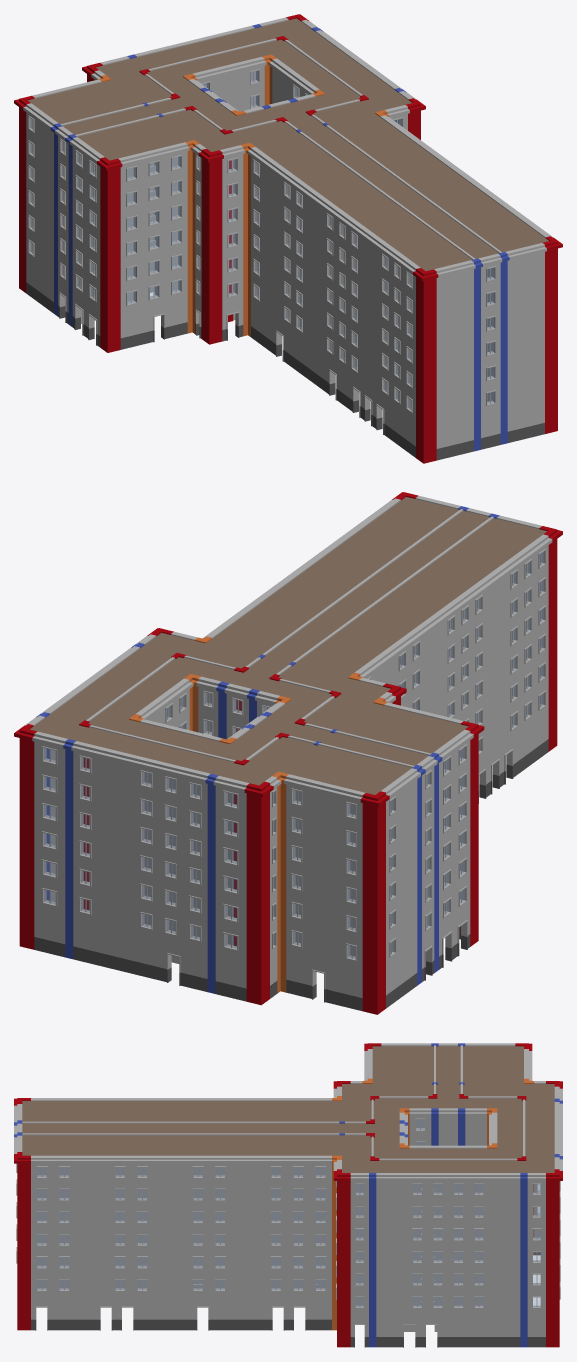
The model's file is House draft.fbx.
3 renders of one model, top to bottom at view 1: azimuth 30°, elevation 25°; view 2: azimuth 150°, elevation 25°; view 3: azimuth 270°, elevation 25°, orthographic. The views are drawn at different scales.
Visible parts, largest first — view 1: Footprint_Building, Footprint, Footprint_InteriorWalls; view 2: Footprint_Building, Footprint, Footprint_InteriorWalls; view 3: Footprint_Building, Footprint, Footprint_InteriorWalls.
Part boxes in pixels (box(x1,y1,x2,y2)): Footprint_Building: box(14, 14, 562, 463); Footprint: box(28, 18, 548, 270); Footprint_InteriorWalls: box(60, 36, 501, 401); Footprint_Building: box(14, 492, 562, 1014); Footprint: box(29, 497, 546, 794); Footprint_InteriorWalls: box(79, 509, 493, 963); Footprint_Building: box(14, 1043, 562, 1347); Footprint: box(22, 1046, 554, 1172); Footprint_InteriorWalls: box(22, 1045, 526, 1331).
Bounding box in the file's own units: 2900 × 1732 × 5000.
